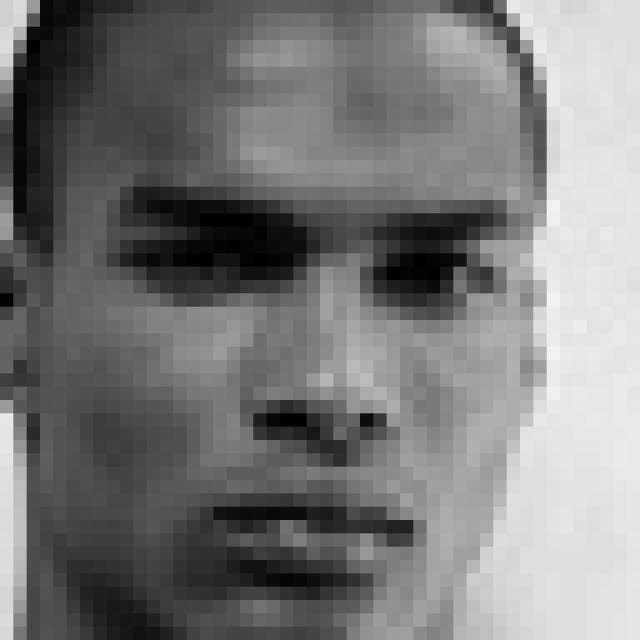neutral: (113, 178, 524, 600)
